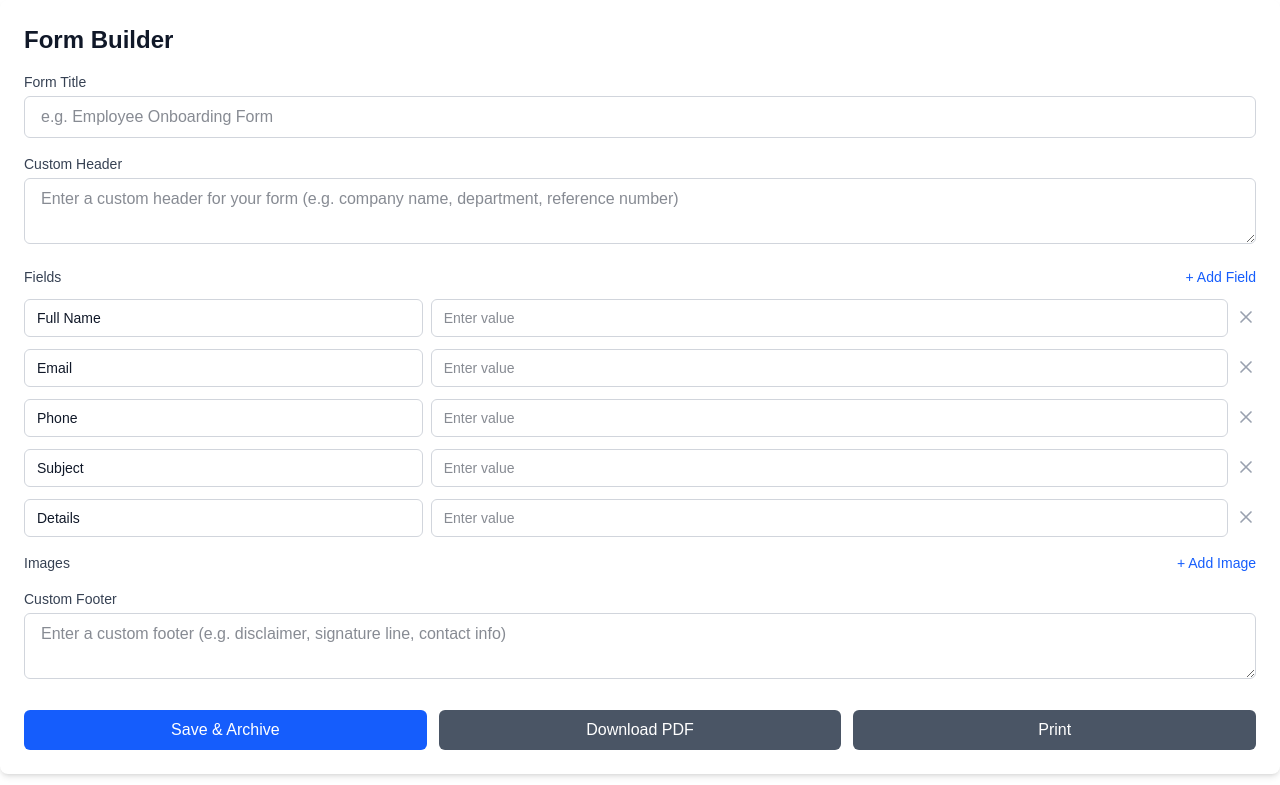
FormBuilder › saves form to localStorage and shows success
Step 1. Type "Test Form" into the field with placeholder "e.g. Employee Onboarding Form" → (640, 117), box [24,96,1256,138]
Step 2. Type "John Doe" into the 1st field with placeholder "Enter value" → (829, 318), box [431,299,1228,337]
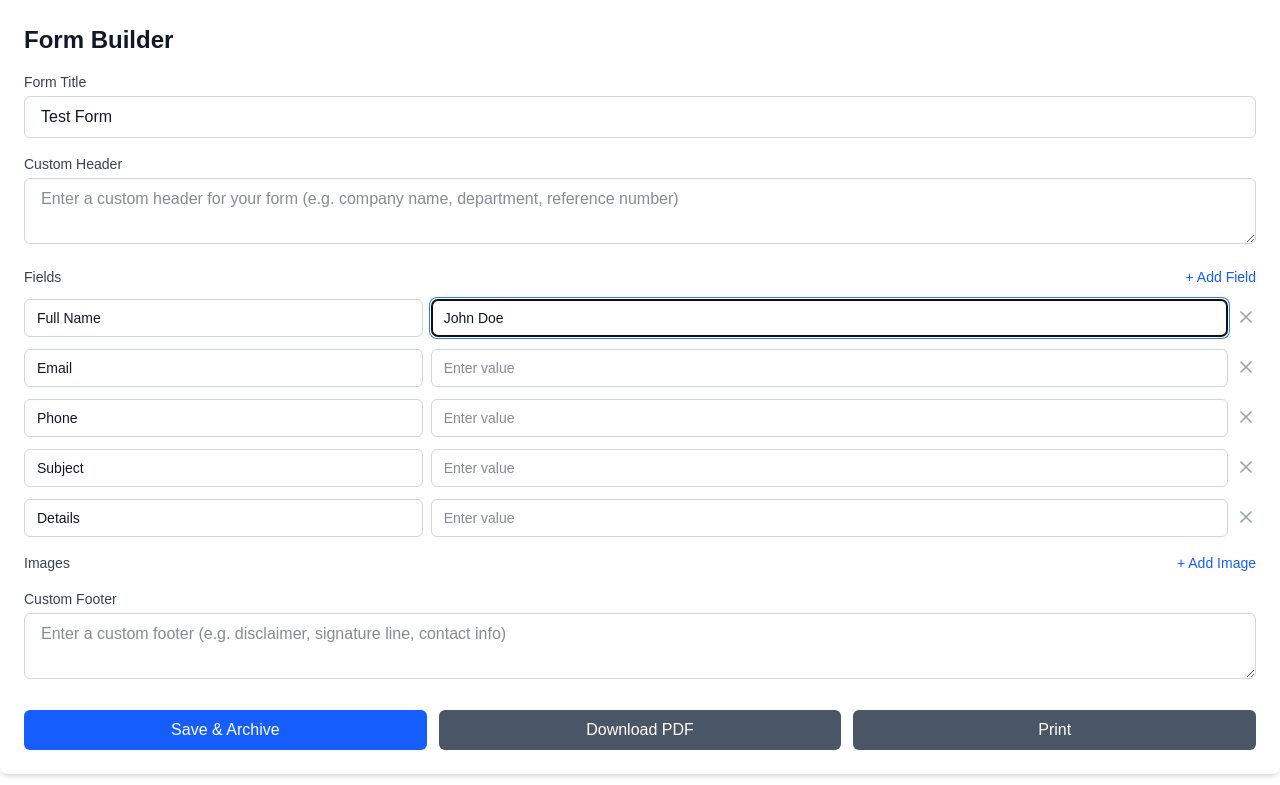
Step 3. Type "john@test.com" into the 1st field with placeholder "Enter value" → (829, 368), box [431,349,1228,387]
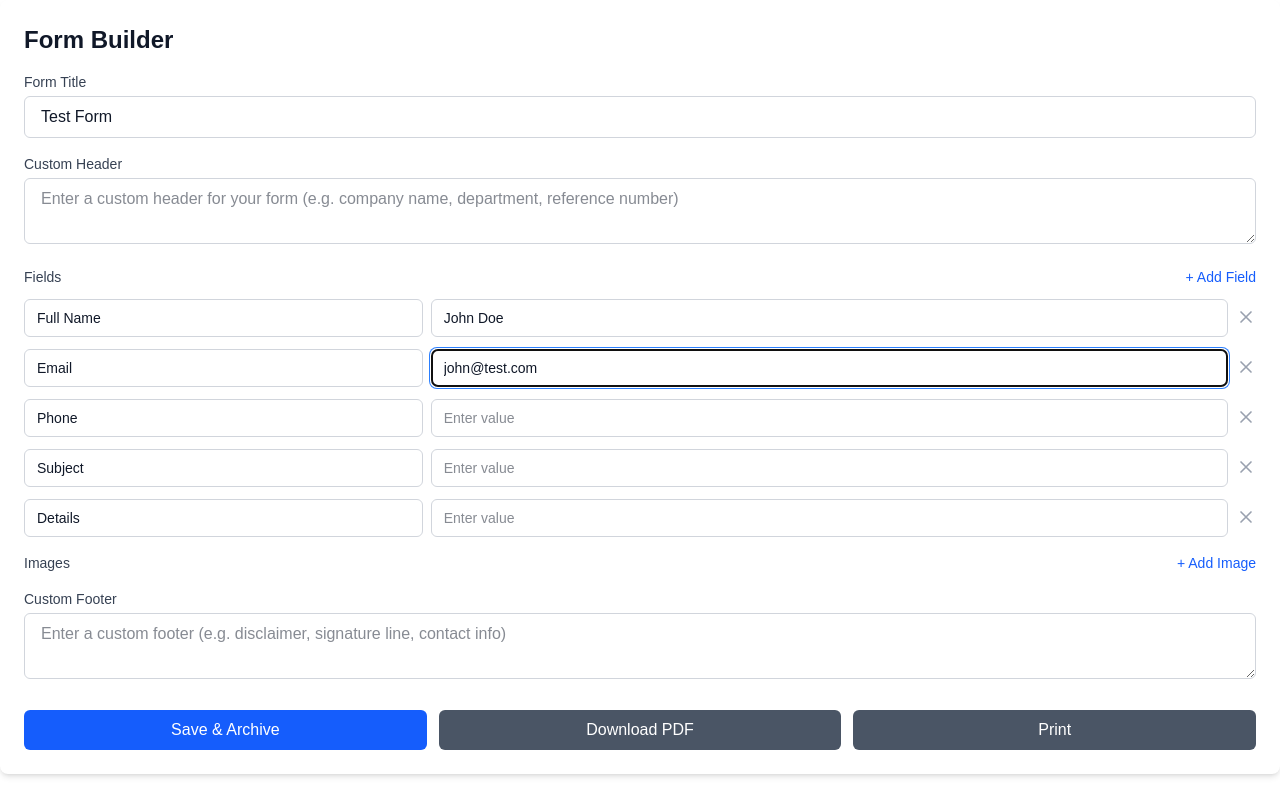
Step 4. Type "555-1234" into the 1st field with placeholder "Enter value" → (829, 418), box [431,399,1228,437]
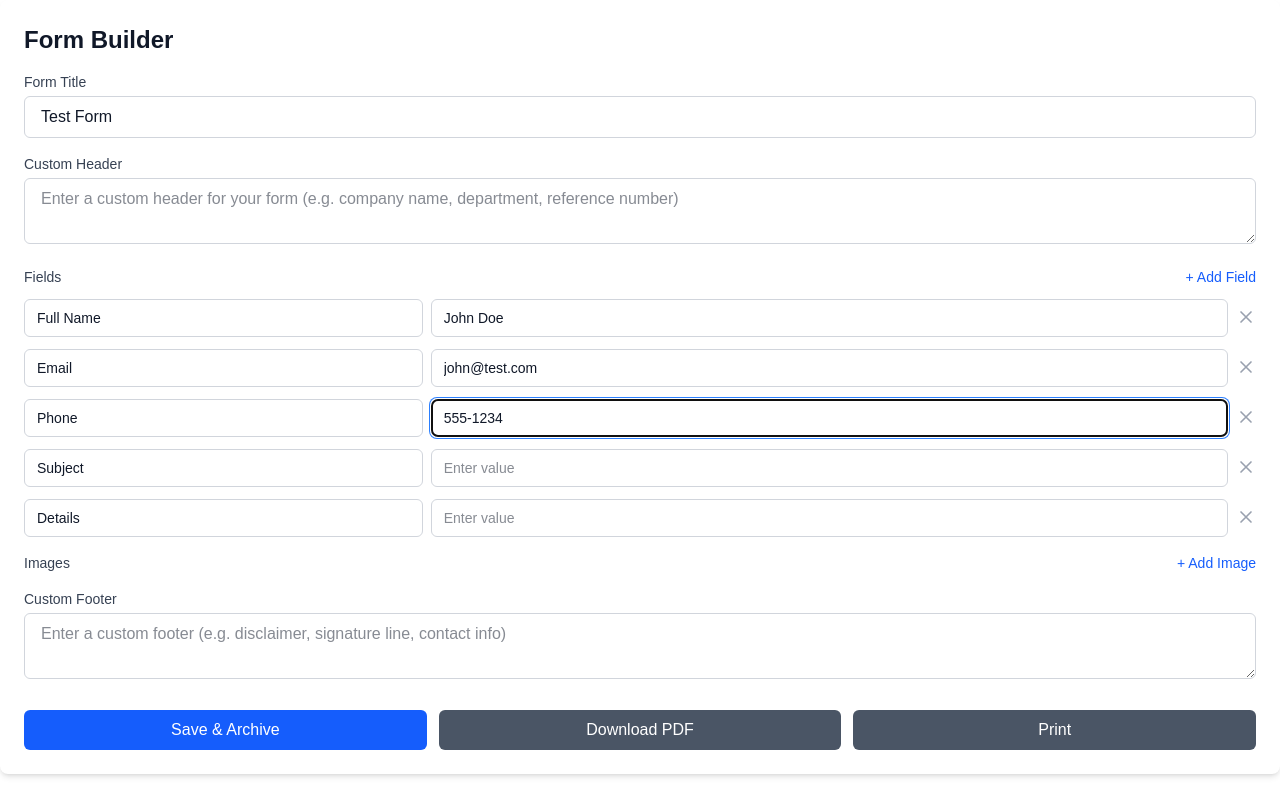
Step 5. Type "Inquiry" into the 1st field with placeholder "Enter value" → (829, 468), box [431,449,1228,487]
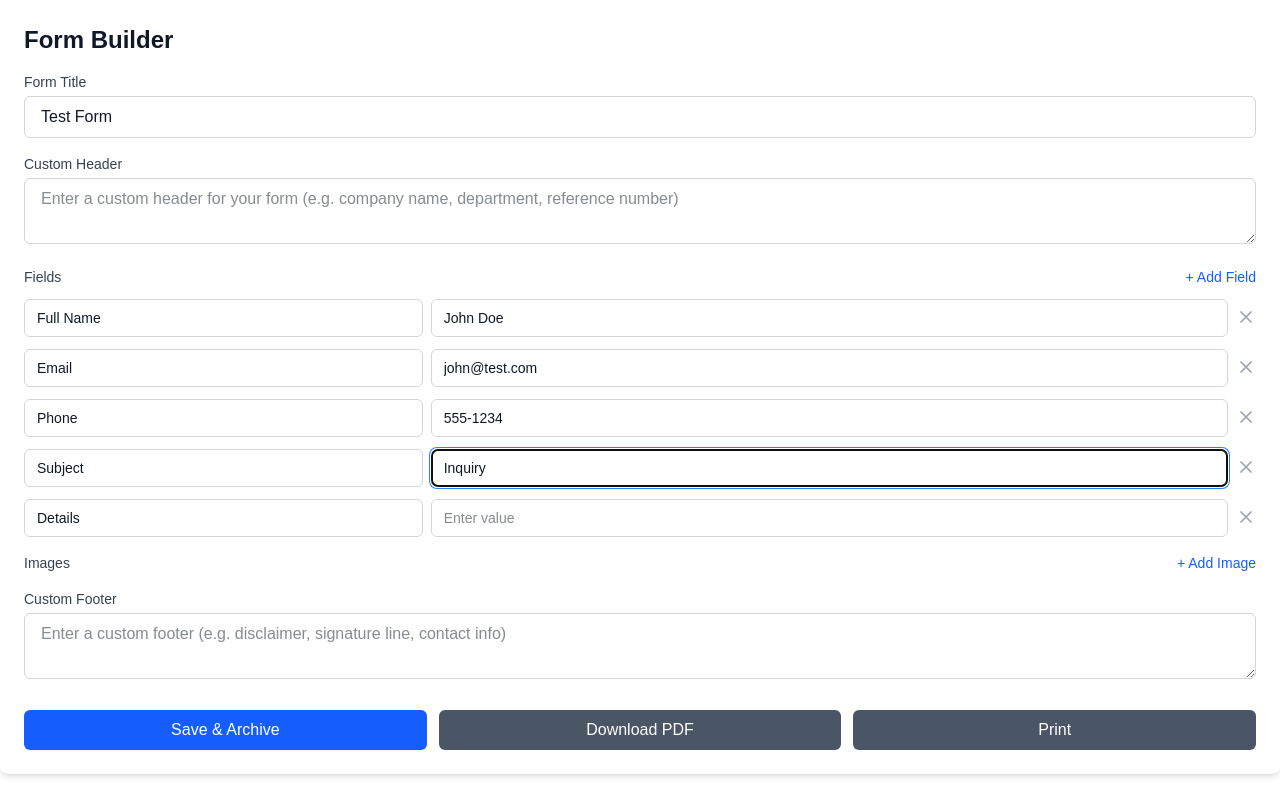
Step 6. Type "Details here" into the field with placeholder "Enter value" → (829, 518), box [431,499,1228,537]
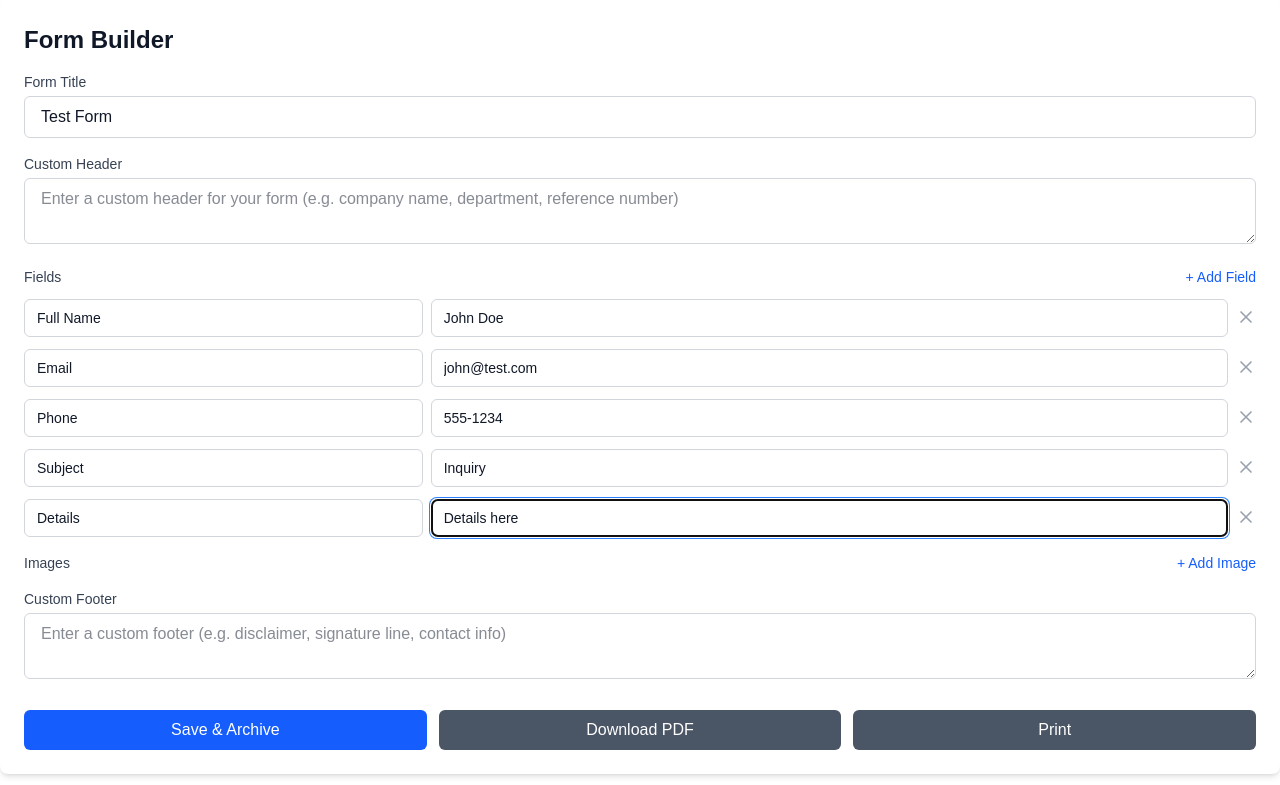
Step 7. Click the button "Save & Archive" → (225, 730), box [24,710,427,750]
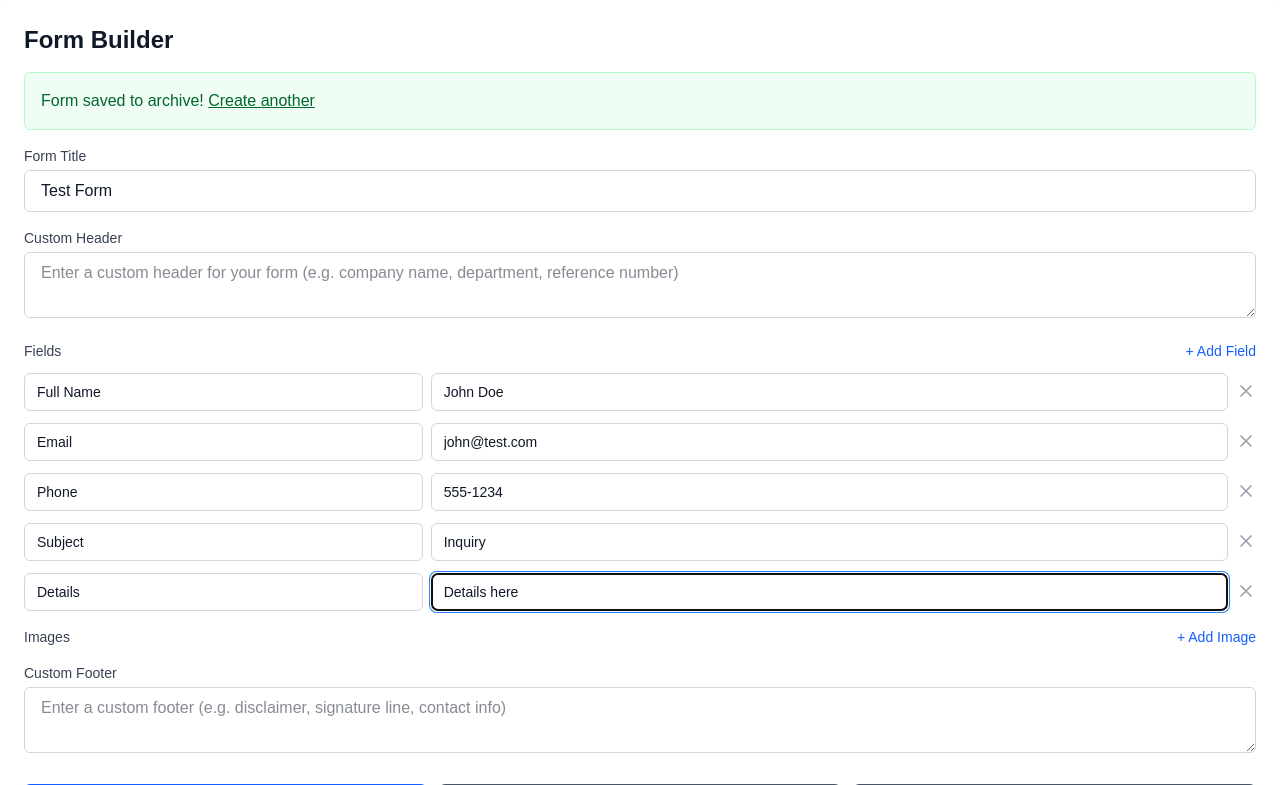
Expected: the text "Form saved to archive! Create another" is shown, [24,72,1256,130]
